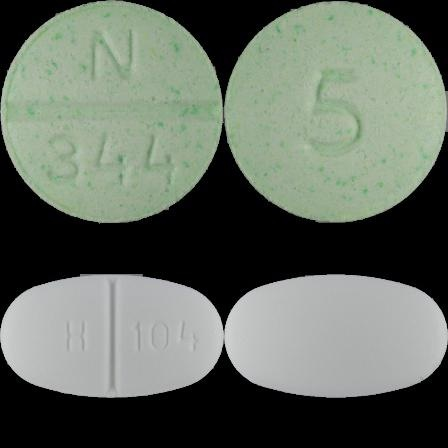49999-113: (0, 0, 224, 224)
